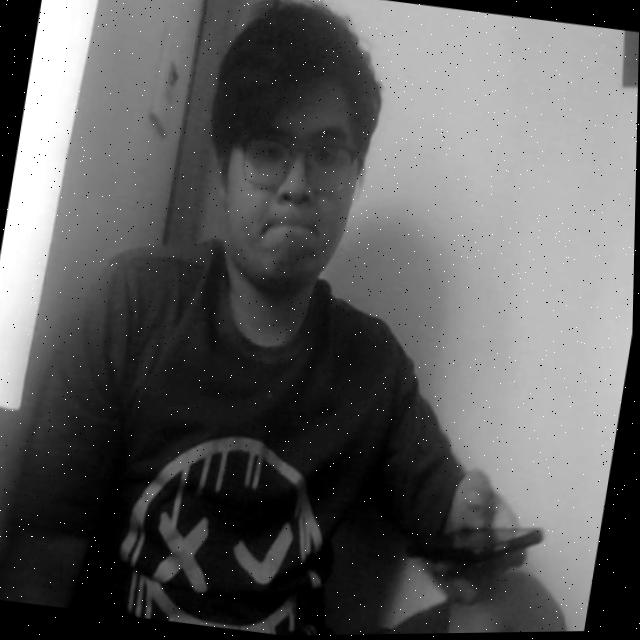phone: (430, 494, 567, 605)
